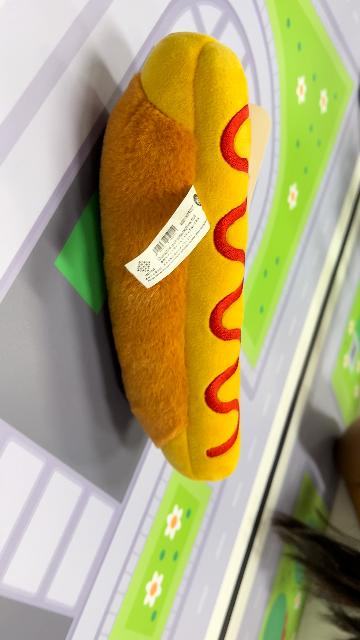hotdog: (98, 31, 254, 483)
